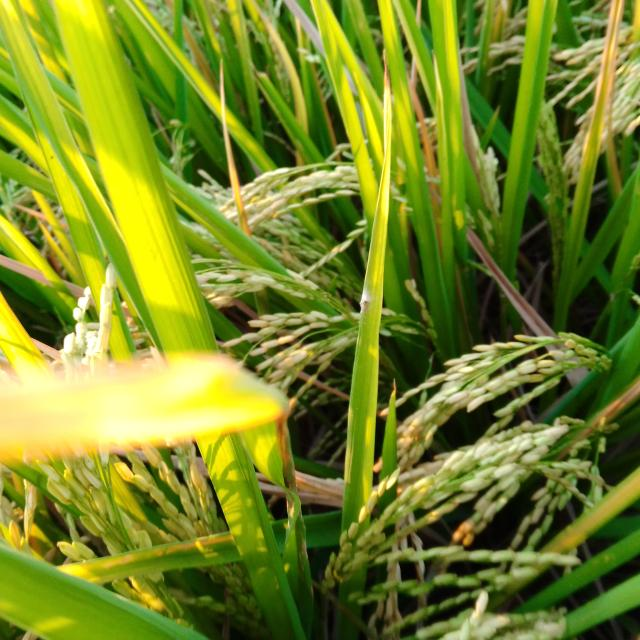Brown spot: (567, 473, 639, 545), (592, 9, 618, 132), (214, 87, 234, 177), (605, 383, 639, 422)
insects: (48, 154, 57, 164)
